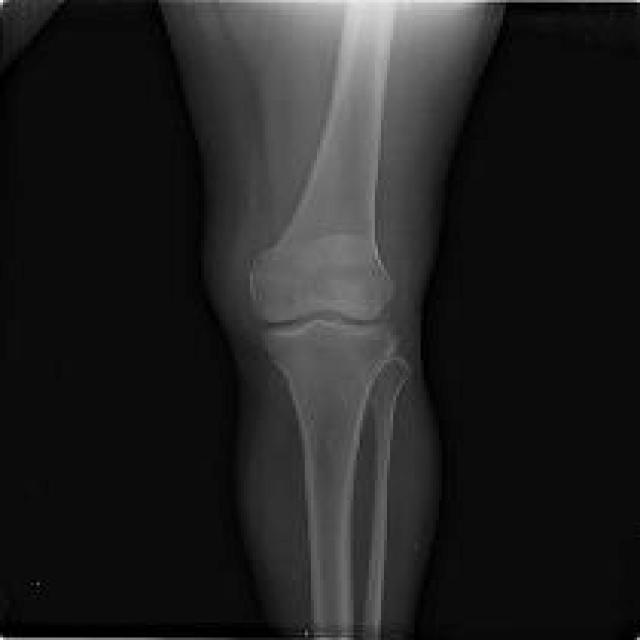normal: (247, 2, 411, 639)
